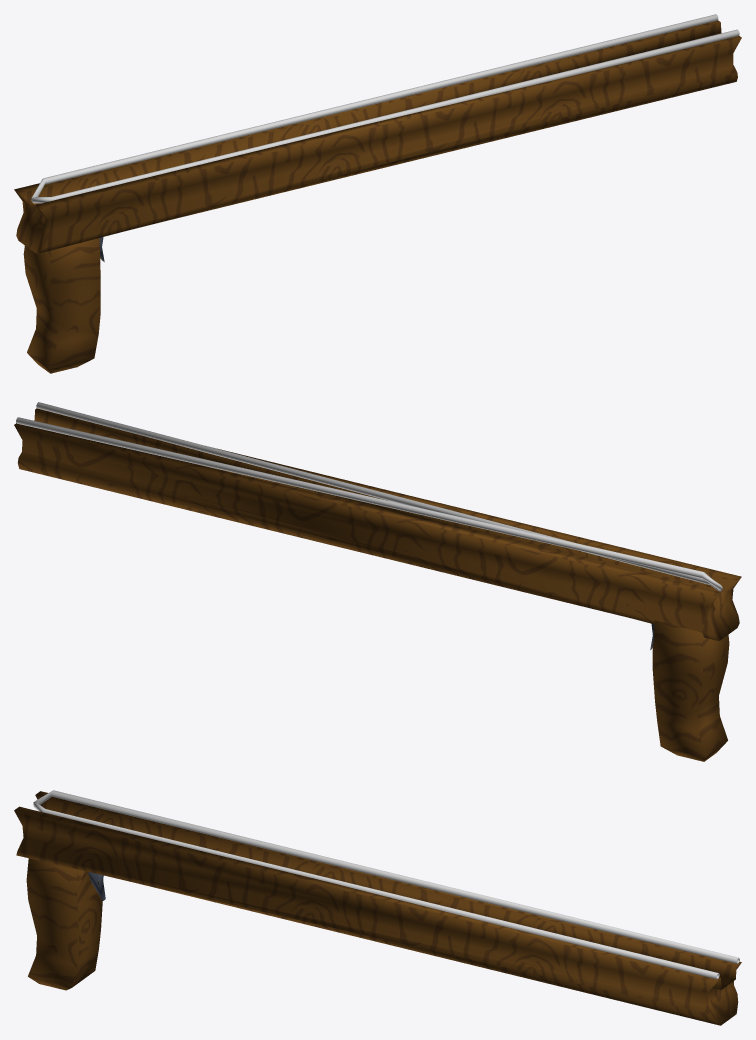
File: sniper.dae
3 renders of one model, top to bottom at view 1: azimuth 30°, elevation 25°; view 2: azimuth 150°, elevation 25°; view 3: azimuth 330°, elevation 25°, orthographic.
Parts seen in each view (by area): view 1: SNIPER DA PP; view 2: SNIPER DA PP; view 3: SNIPER DA PP.
Boxes of the visible parts, x1=… form: SNIPER DA PP: x1=14, y1=14, x2=741, y2=373; SNIPER DA PP: x1=14, y1=402, x2=741, y2=761; SNIPER DA PP: x1=14, y1=790, x2=741, y2=1025.
Size of the model in its own units: 9.94 by 0.6807 by 2.53.
